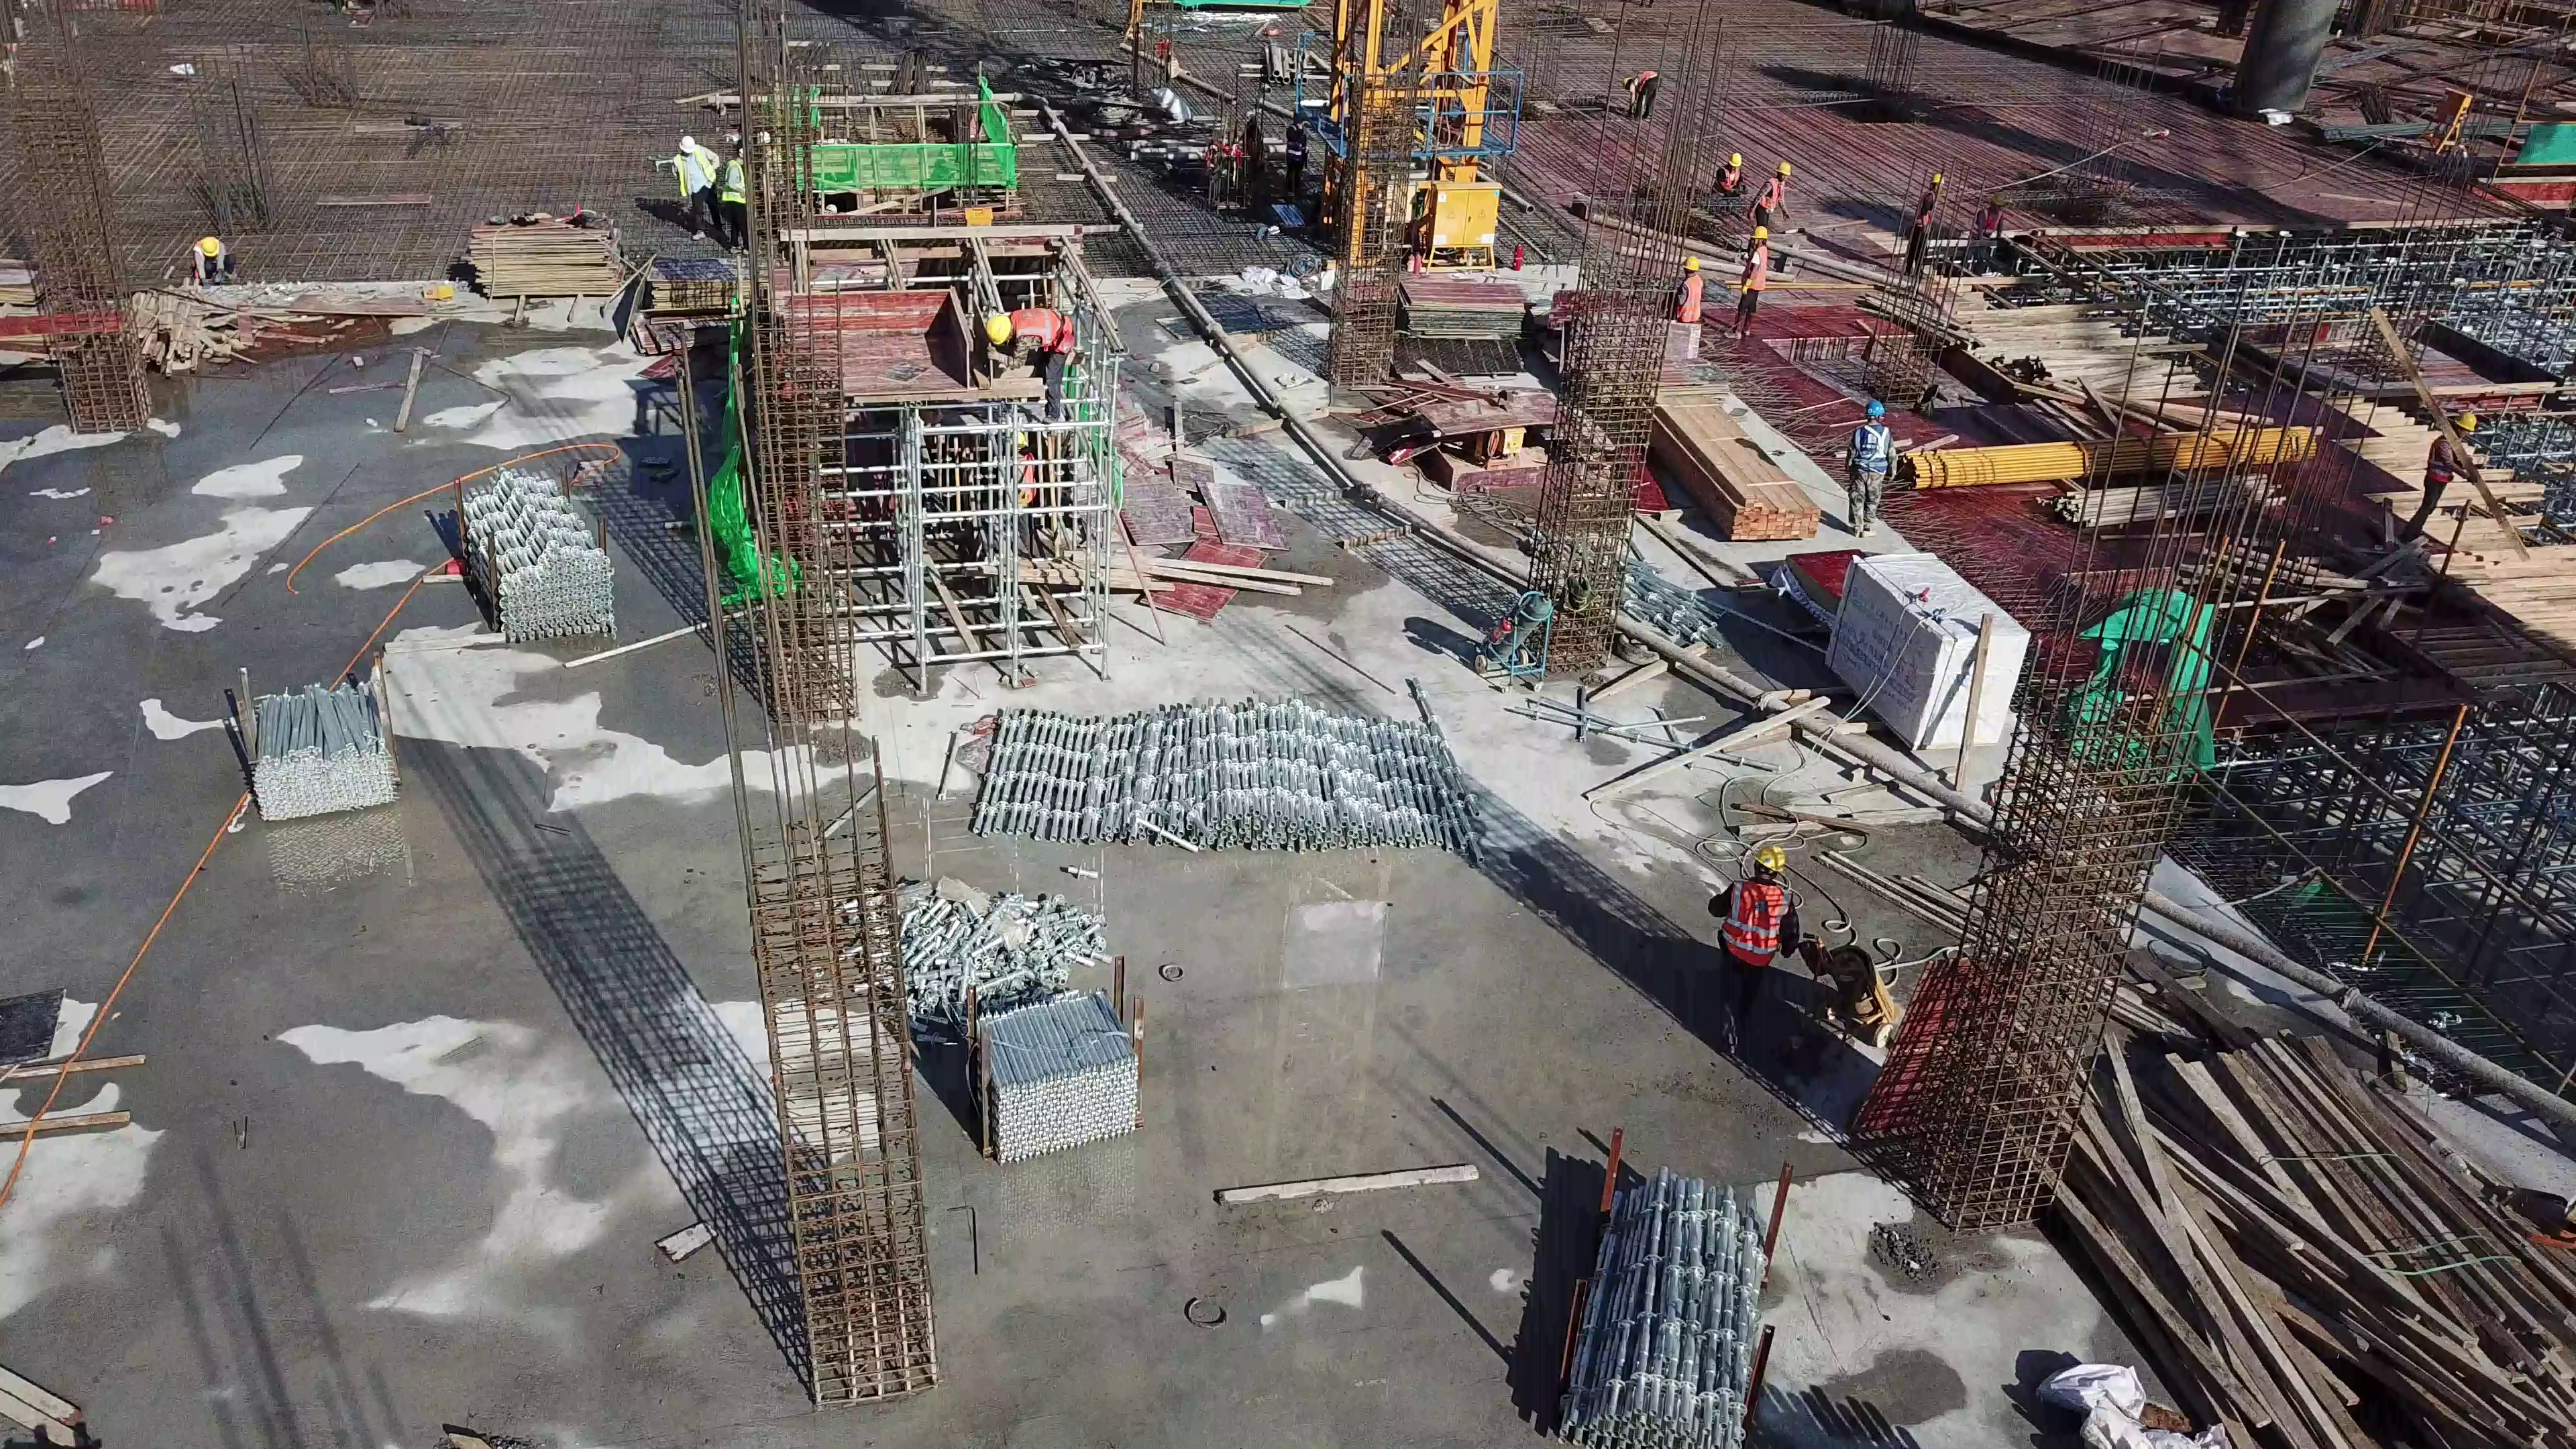helmet: (986, 312, 1012, 348), (1755, 845, 1786, 874), (2453, 411, 2479, 432), (199, 235, 219, 259), (1863, 399, 1887, 420), (678, 136, 695, 154), (1683, 254, 1701, 271), (1749, 225, 1768, 240), (1774, 161, 1791, 178), (1929, 172, 1945, 184), (1729, 151, 1741, 167)
person: (1705, 843, 1806, 1064), (2390, 406, 2477, 547), (979, 301, 1073, 431), (1843, 398, 1902, 539), (1006, 432, 1059, 564), (669, 136, 731, 243), (1722, 225, 1771, 341), (720, 142, 763, 255), (1902, 170, 1935, 282), (1747, 161, 1790, 227), (188, 233, 238, 286), (1966, 186, 2008, 246), (1673, 253, 1706, 326), (1709, 146, 1750, 201), (1622, 68, 1662, 121)
vest: (1721, 881, 1789, 966), (1010, 309, 1072, 358), (673, 146, 716, 196), (1850, 423, 1894, 474), (1674, 272, 1703, 325), (722, 158, 747, 205), (1743, 244, 1768, 291), (1760, 178, 1786, 211), (1718, 165, 1741, 191)
